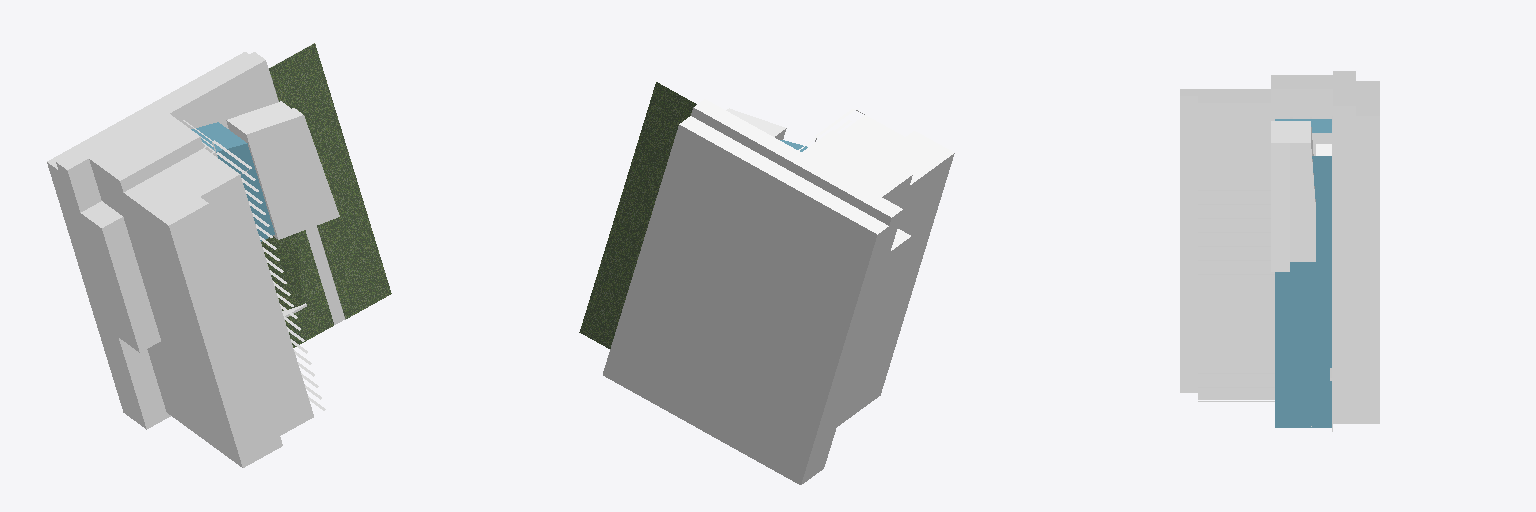
3 renders of one model, left to right at view 1: azimuth 30°, elevation 25°; view 2: azimuth 150°, elevation 25°; view 3: azimuth 270°, elevation 25°, orthographic.
Bounding box in the file's own units: 289 × 295 × 154.
Materials: 3 (1 with a texture image).